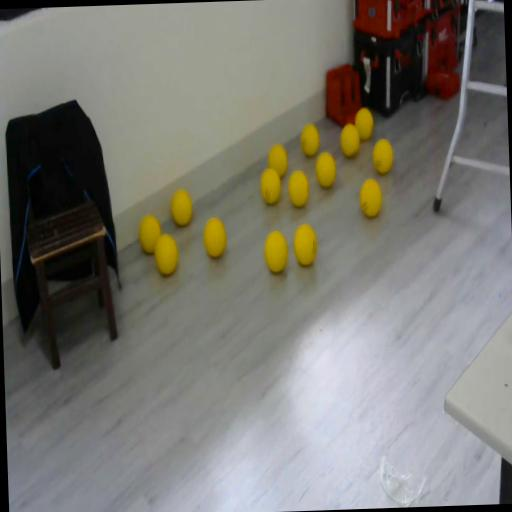FUEL: (262, 228, 288, 274), (152, 231, 179, 275), (292, 222, 318, 267), (202, 216, 228, 258), (137, 213, 161, 253), (169, 186, 193, 226), (358, 178, 382, 218), (286, 168, 310, 207), (314, 150, 336, 188), (266, 142, 288, 178), (338, 121, 360, 157), (372, 138, 394, 174), (300, 122, 320, 156), (354, 106, 374, 139)
